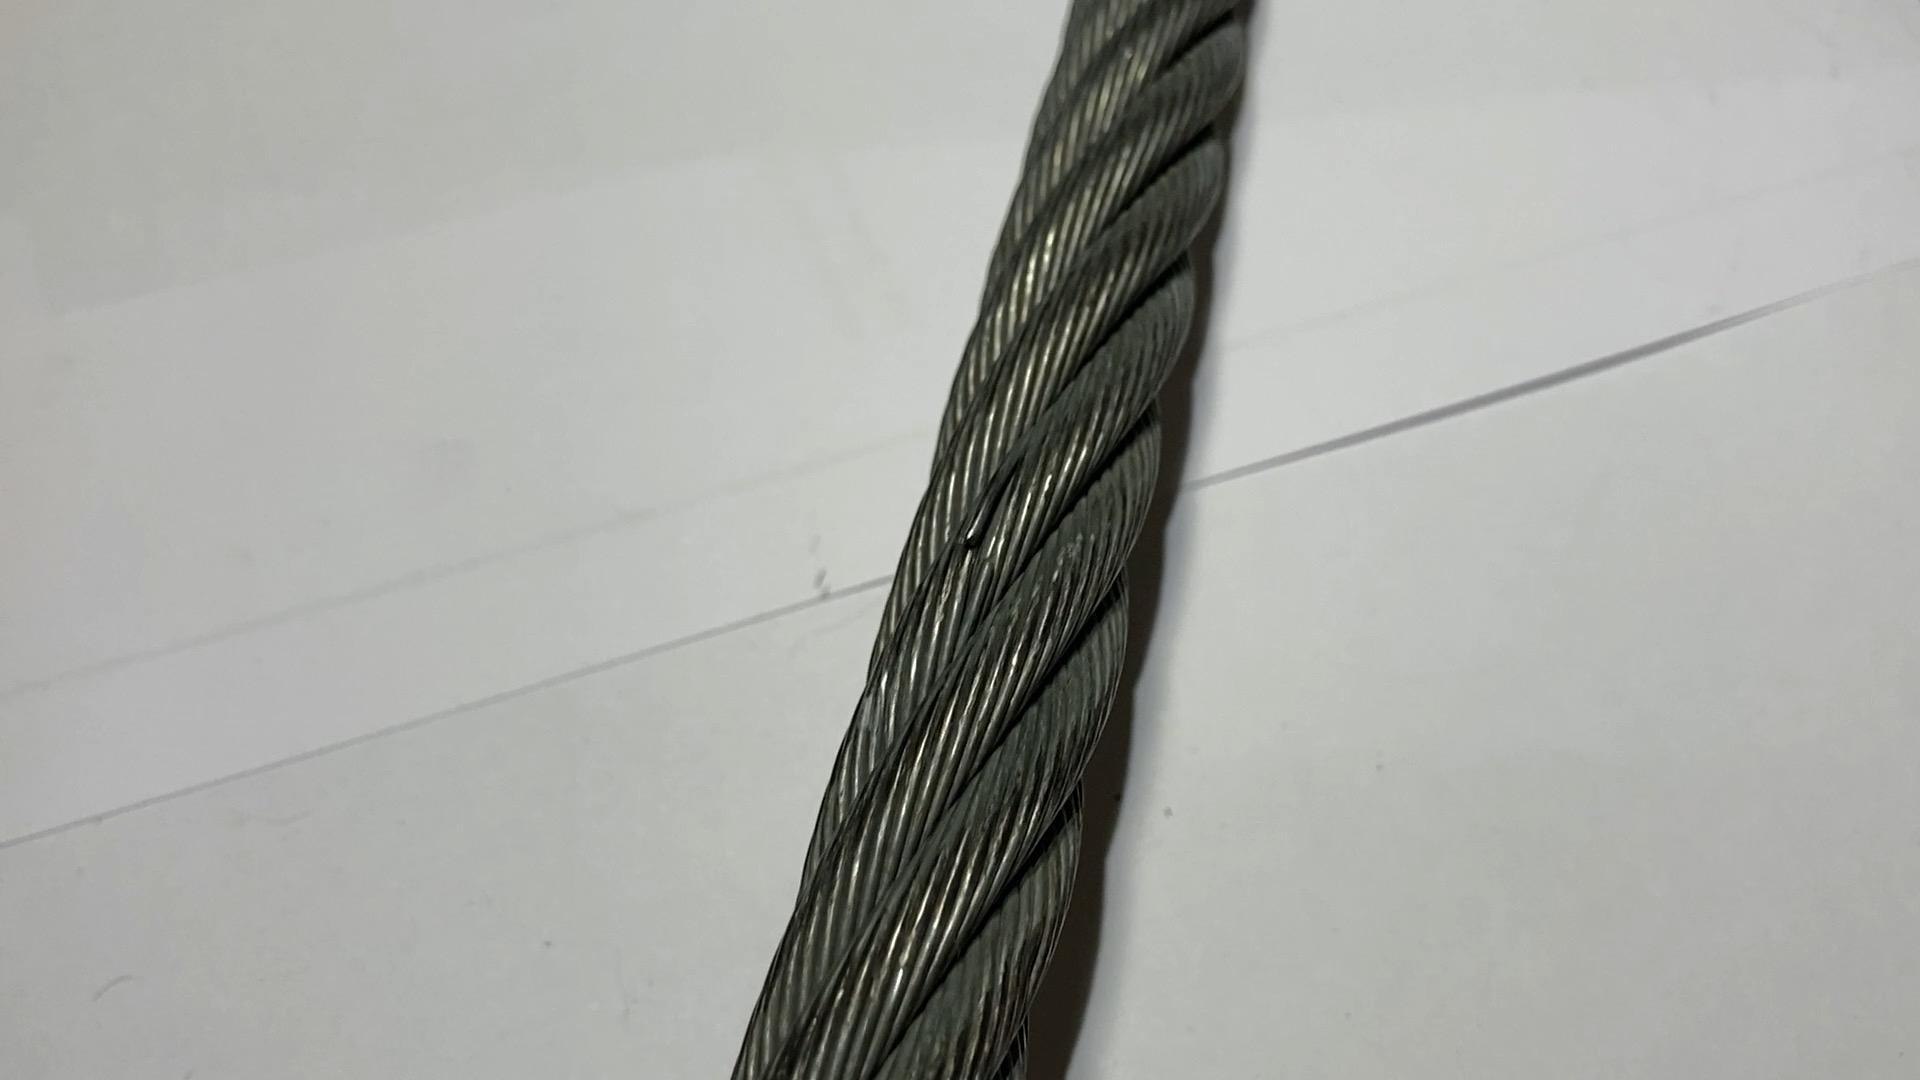break: (957, 480, 997, 570)
